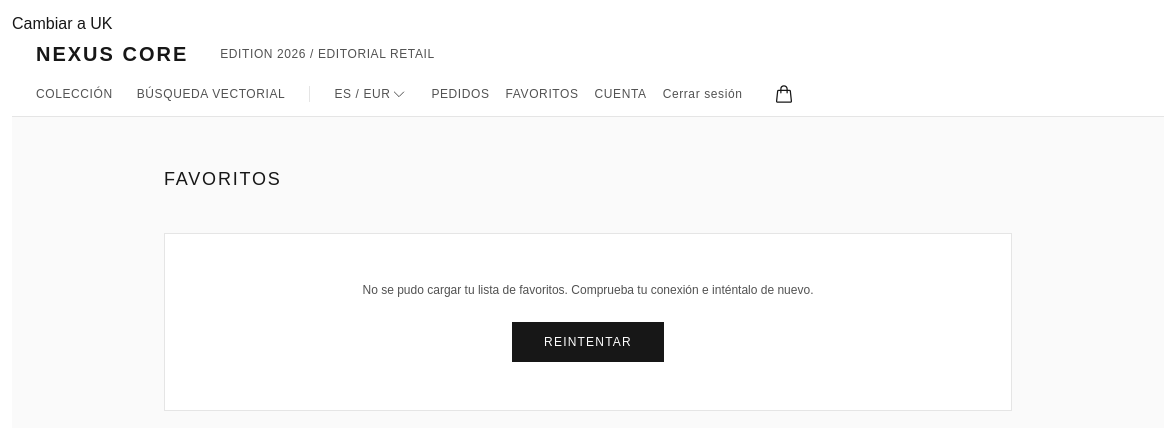
WishlistPage › carga fallida: mensaje amigable y «Reintentar» re-pide la lista (R7.5)
Expected: the text "No se pudo cargar tu lista de favoritos" is shown, [362, 283, 814, 297]
Click the button "Reintentar".
click(588, 342)  # box [512, 322, 664, 362]
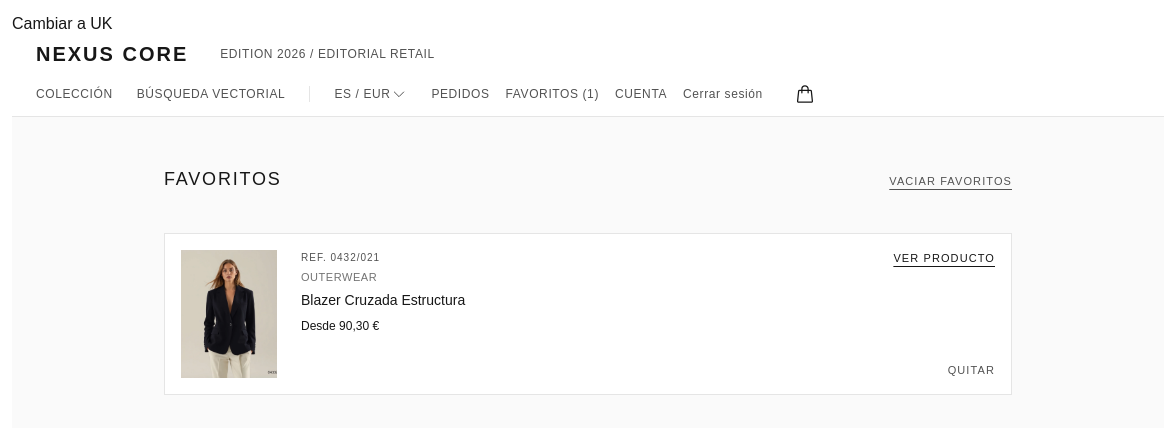
Now the heading "Blazer Cruzada Estructura" is shown, box [301, 292, 465, 308]
